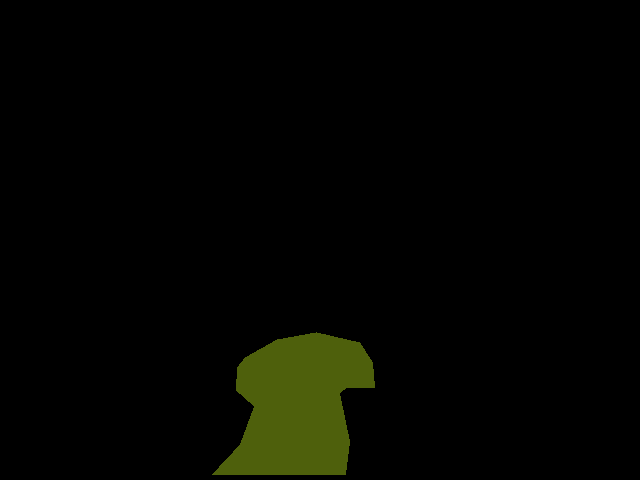Train: (212, 332, 374, 474)
